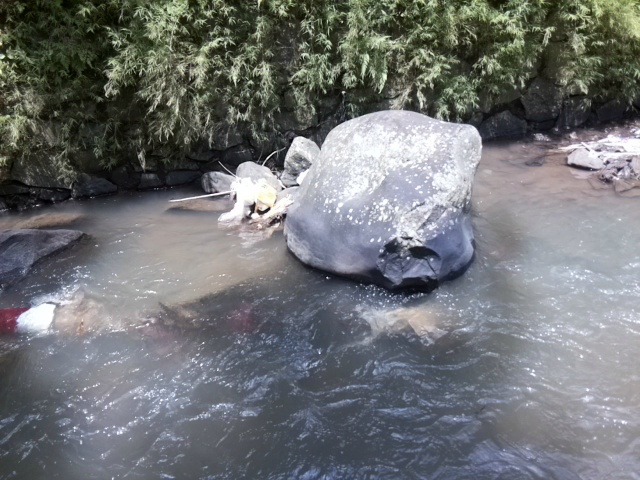Sampah_Plastik: (217, 168, 284, 226), (1, 297, 56, 339)
